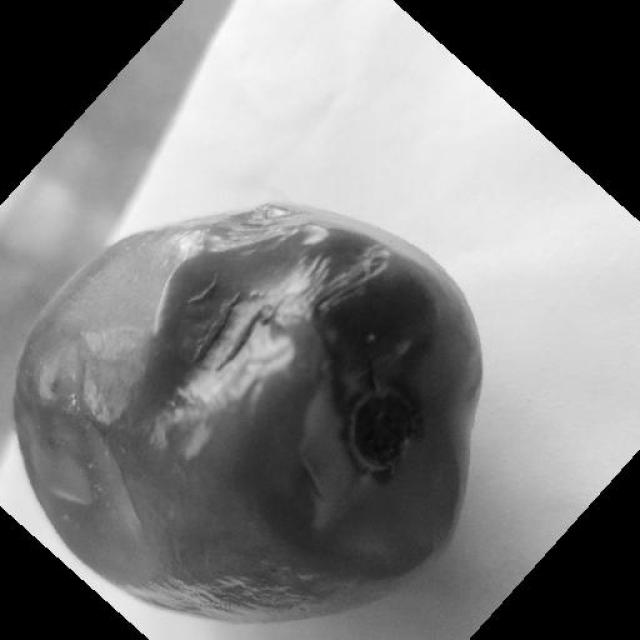Stale_tomato: (50, 201, 469, 602)
